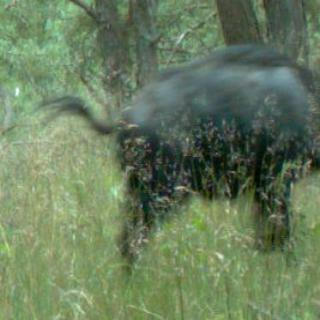Pig: (85, 43, 320, 249)
